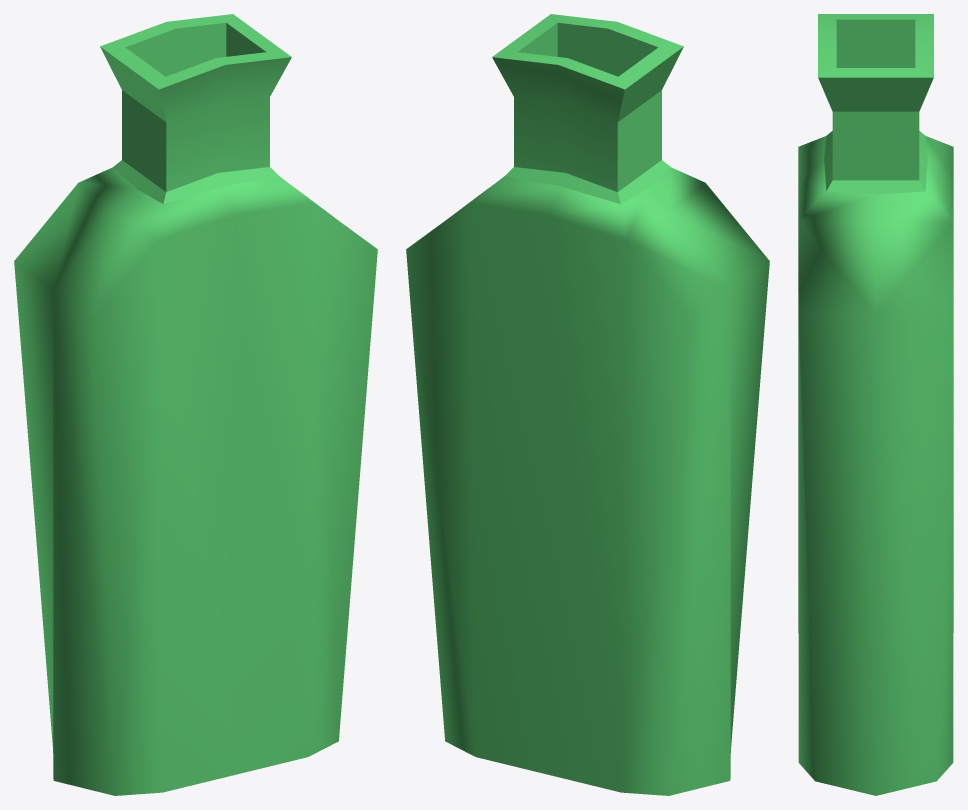
Rendered from PR_Bottle_T.fbx.
The picture shows the model from 3 angles, left to right: view 1: azimuth 30°, elevation 25°; view 2: azimuth 150°, elevation 25°; view 3: azimuth 270°, elevation 25°; orthographic projection.
Parts seen in each view (by area): view 1: PR_Bottle1:PR_Bottle; view 2: PR_Bottle1:PR_Bottle; view 3: PR_Bottle1:PR_Bottle.
Part boxes in pixels (x1,y1,x2,y2): PR_Bottle1:PR_Bottle: [14, 14, 377, 795]; PR_Bottle1:PR_Bottle: [406, 14, 769, 795]; PR_Bottle1:PR_Bottle: [798, 14, 953, 795].
Bounding box in the file's own units: 0.232 × 0.5466 × 0.1117.
